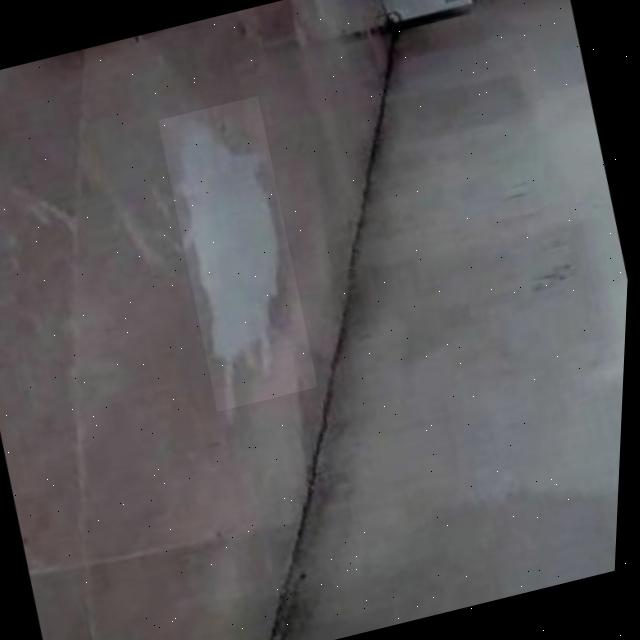spillage: (167, 114, 283, 408)
